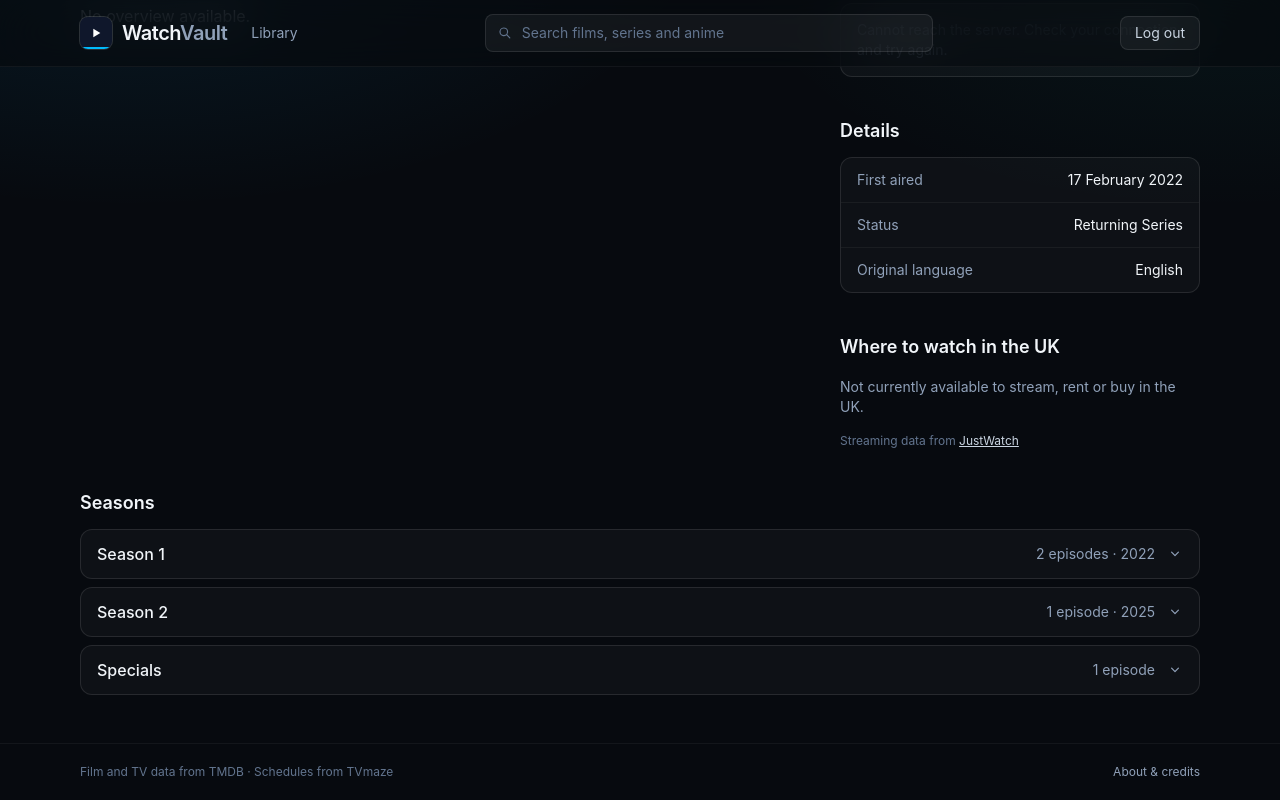
seasons › loads episodes only when a season is opened, and is honest about unknowns
(page scrolled)
Click the button "Season 1 2 episodes · 2022": (131, 554) [81, 530, 1199, 578]
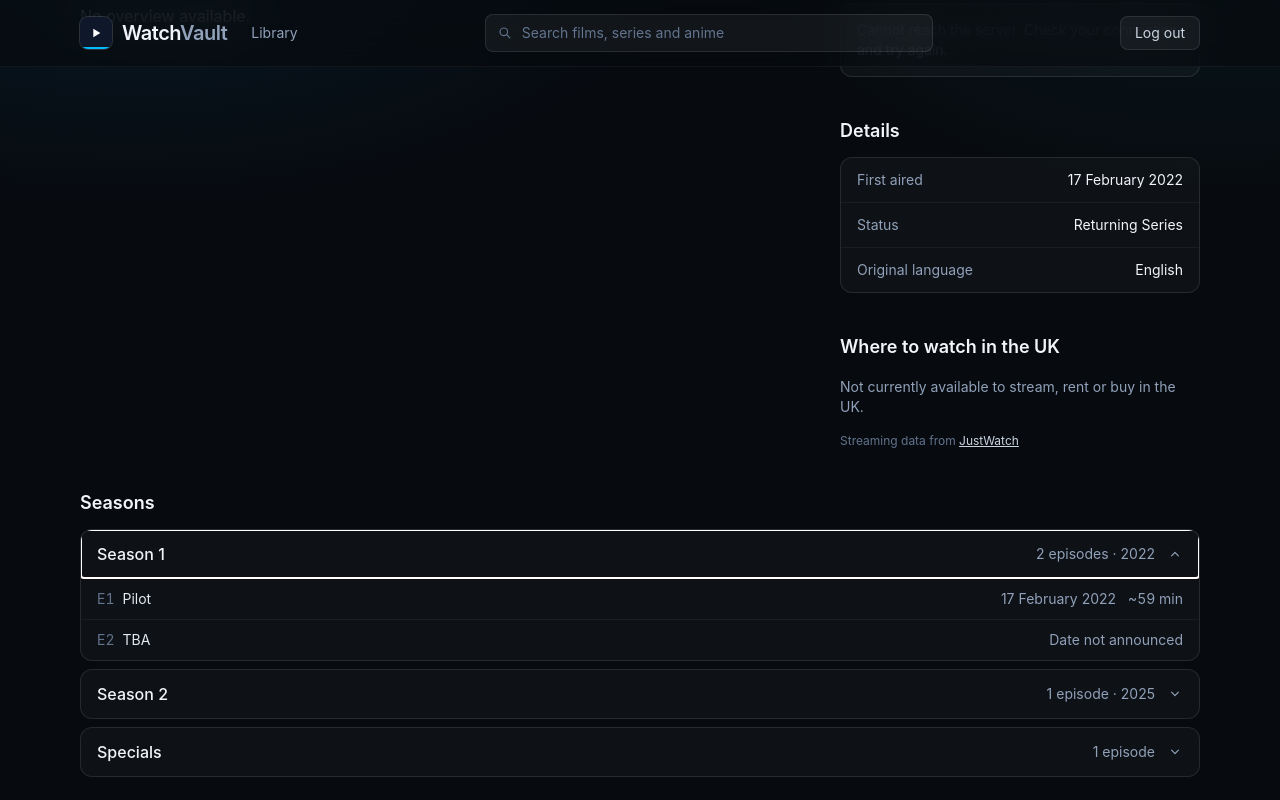
Now the text "17 February 2022" next to "59" is shown, box [1001, 590, 1116, 607]
Now the text "Date not announced" is shown, box [1049, 630, 1183, 650]
